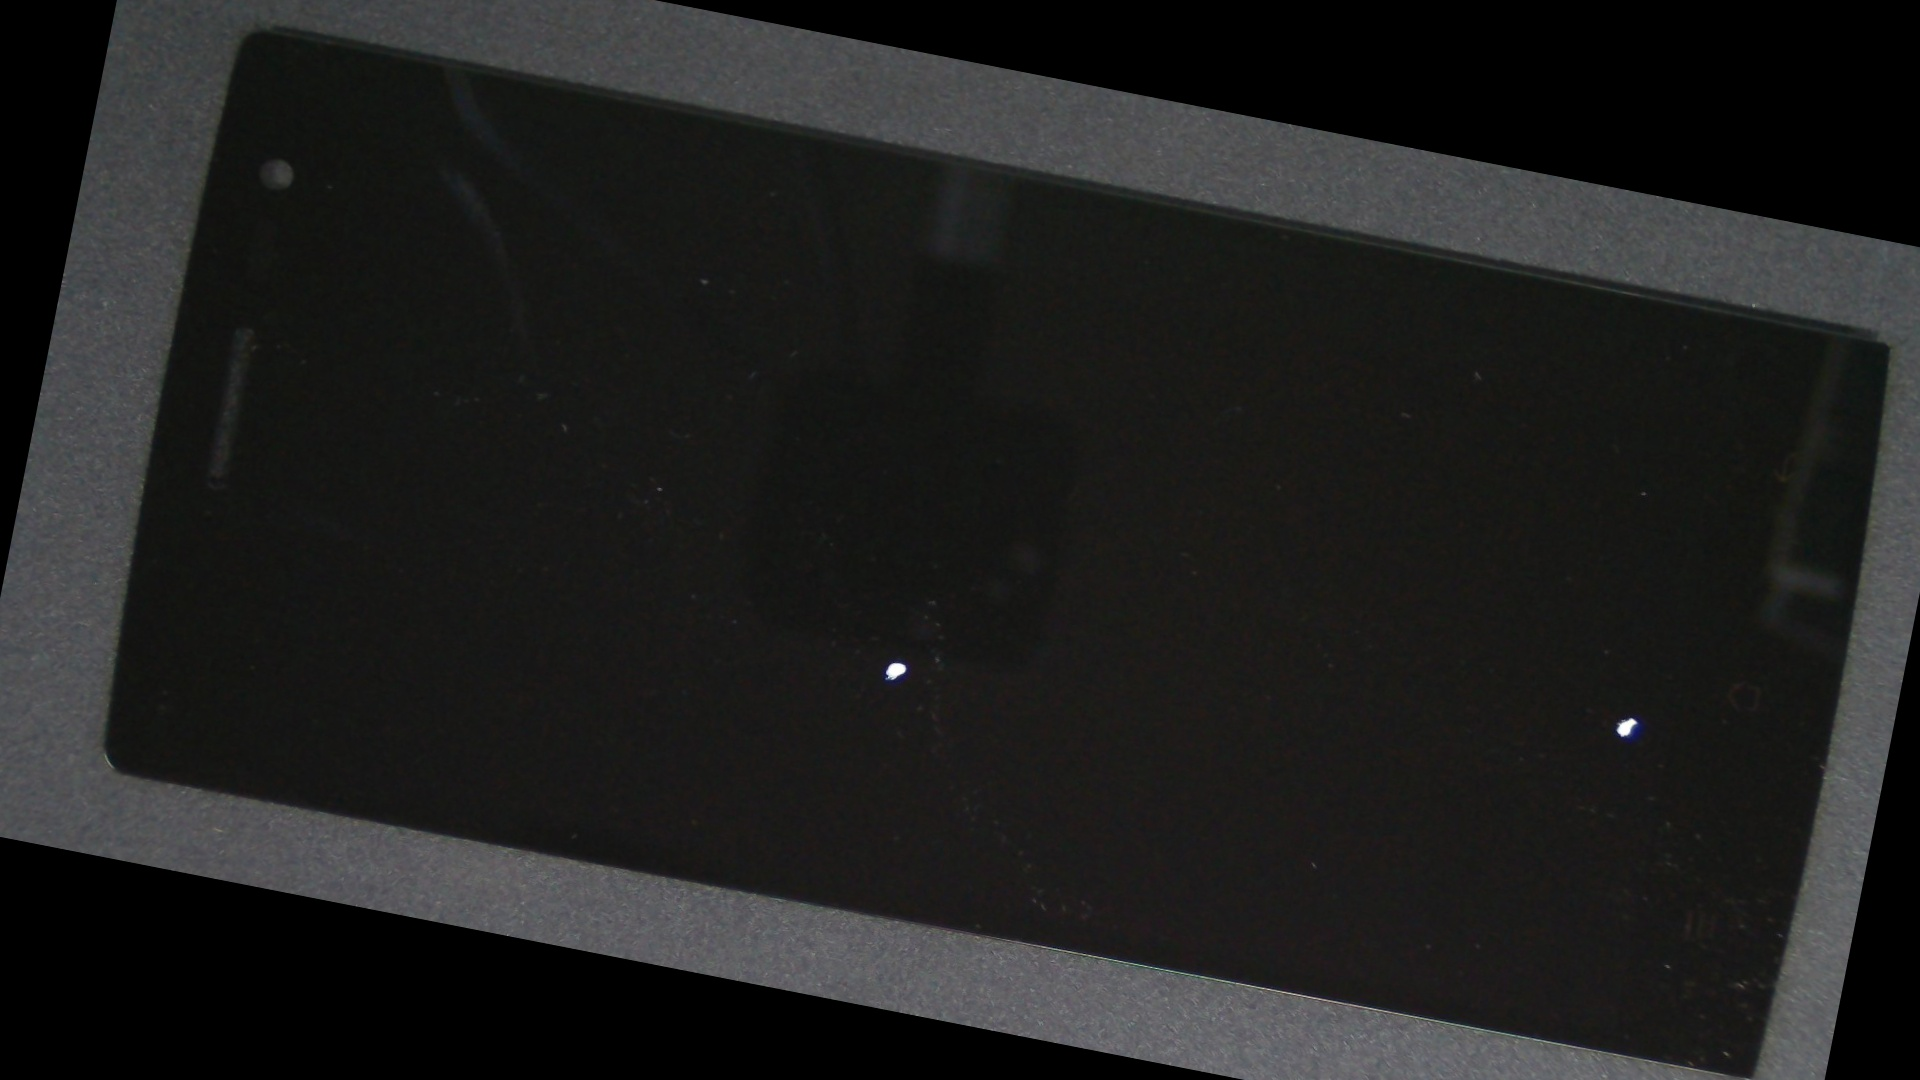oil: (786, 307, 1920, 1019), (402, 280, 1394, 1043)
